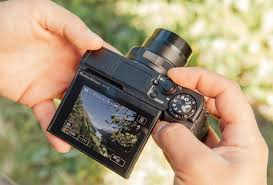camera: (62, 30, 209, 158)
